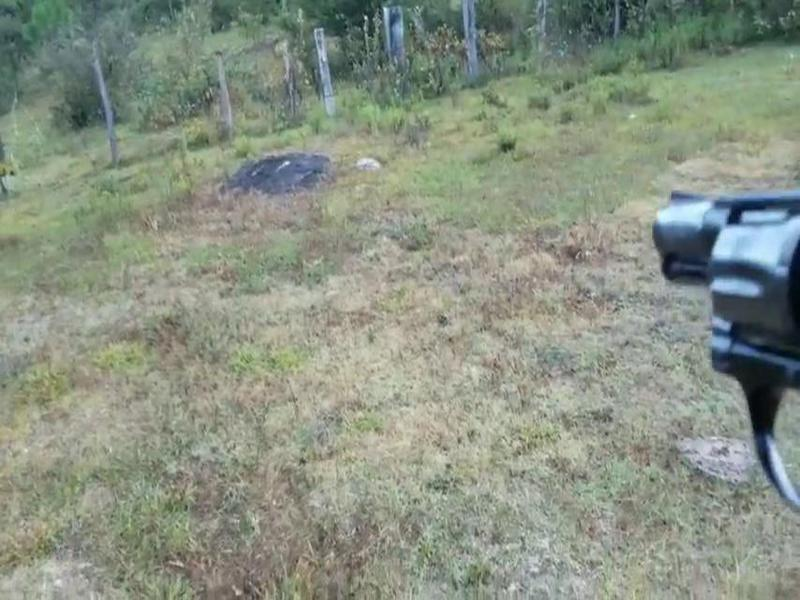Revolver: (613, 148, 800, 504)
